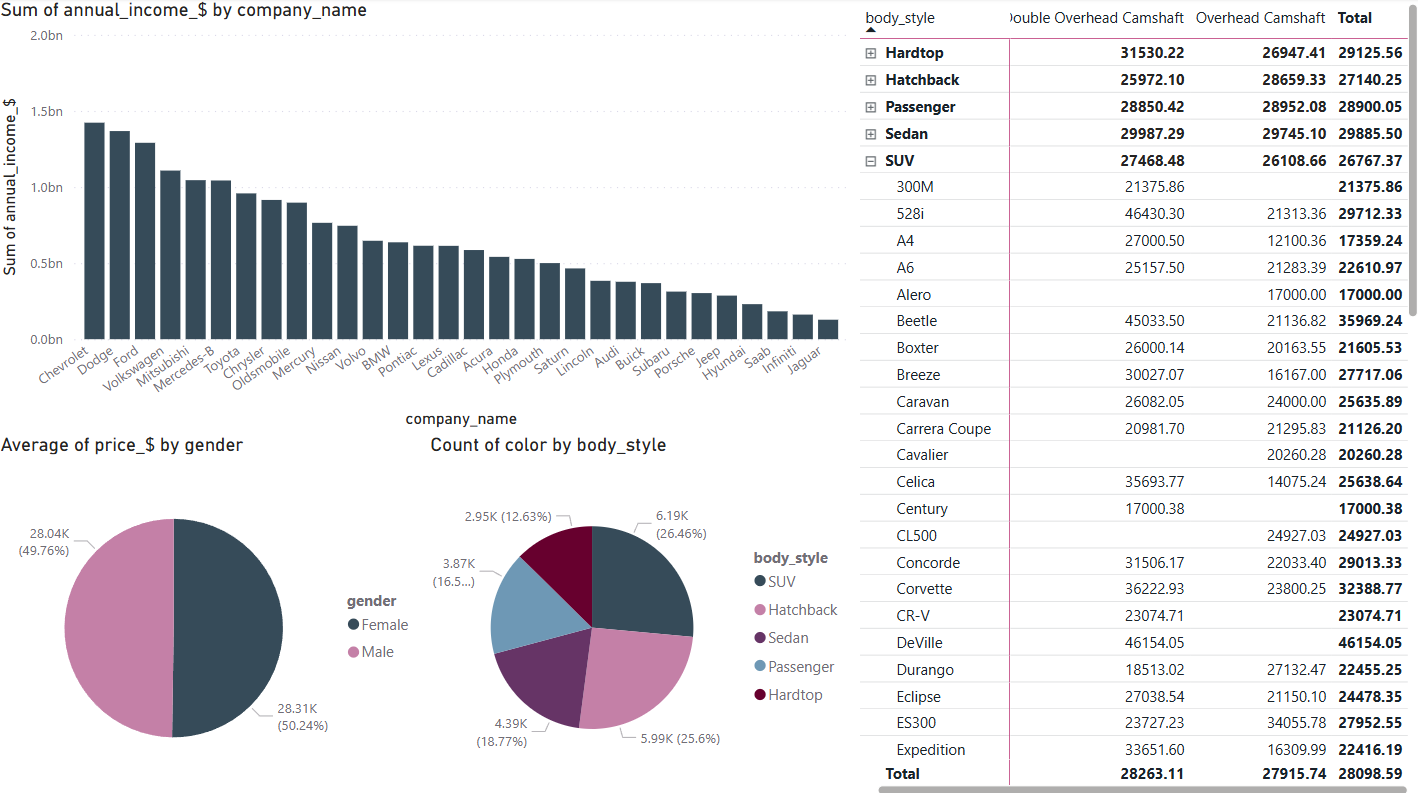

What the dashboard file says about the page in this screenshot:
{"tool":"powerbi","page":{"name":"Page 1","canvas":[1280,720],"ordinal":0},"visuals":[{"type":"pieChart","fields":{"Category":["golden_data.gender"],"Y":["Avg(golden_data.price_$)"]},"box":[0,389.6,385.1,330.4],"z":0},{"type":"pivotTable","fields":{"Rows":["golden_data.body_style","golden_data.model"],"Columns":["golden_data.engine"],"Values":["Avg(golden_data.price_$)"]},"box":[769.3,0,510.4,719.1],"z":1},{"type":"actionButton","box":[0,0,100,40],"z":2},{"type":"columnChart","fields":{"Category":["golden_data.company_name"],"Y":["Sum(golden_data.annual_income_$)"]},"box":[0,0,769.3,389.6],"z":3},{"type":"pieChart","fields":{"Category":["golden_data.body_style"],"Y":["CountNonNull(golden_data.color)"]},"box":[385.1,389.6,384.2,329.6],"z":4}]}

Visuals, with their boxes in screenshot pixels (x1, y1, x2, y2), scaled from the page's 1280x720 canvas onto the 1418x793 screenshot:
pieChart - golden_data.gender x Avg(golden_data.price_$): (0,429,427,792)
pivotTable - golden_data.body_style x golden_data.model: (852,0,1417,792)
actionButton: (0,0,111,44)
columnChart - golden_data.company_name x Sum(golden_data.annual_income_$): (0,0,852,429)
pieChart - golden_data.body_style x CountNonNull(golden_data.color): (427,429,852,792)
